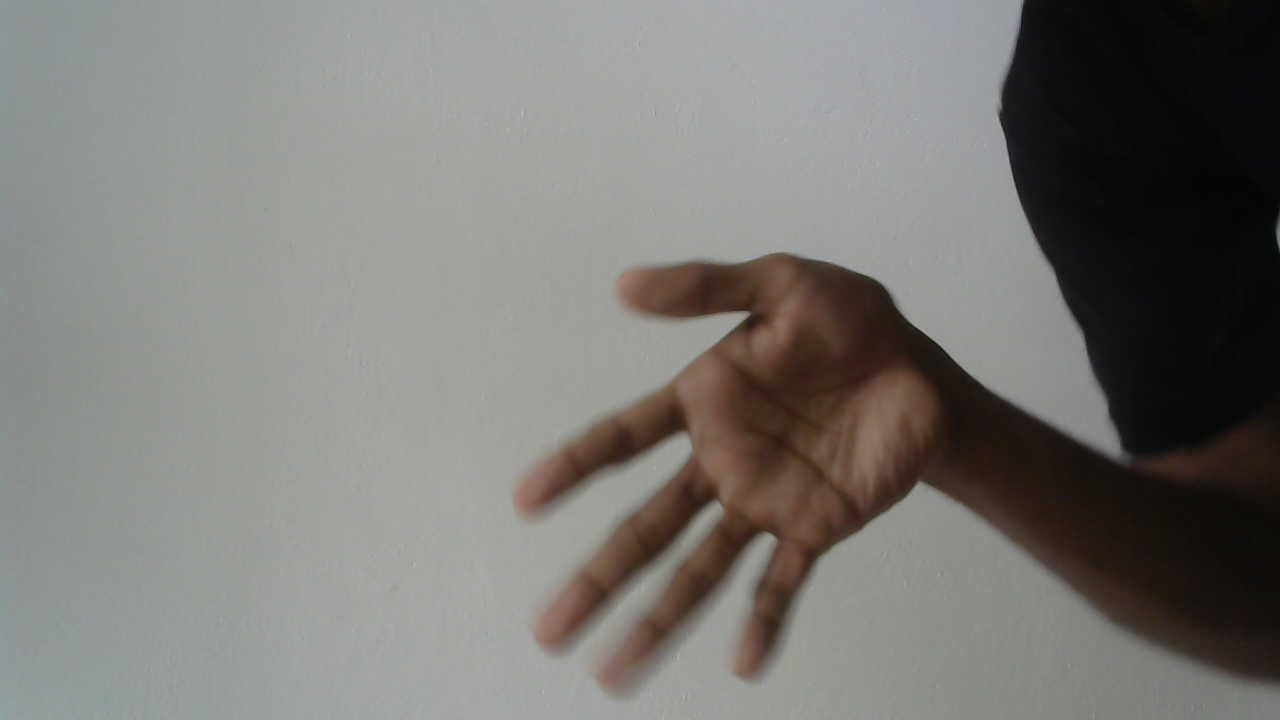hello: (500, 248, 956, 709)
